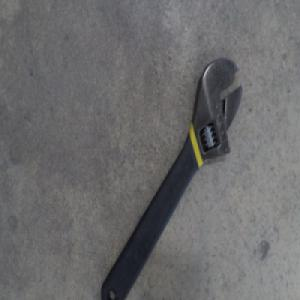AdjustableWrench: (100, 61, 243, 299)
